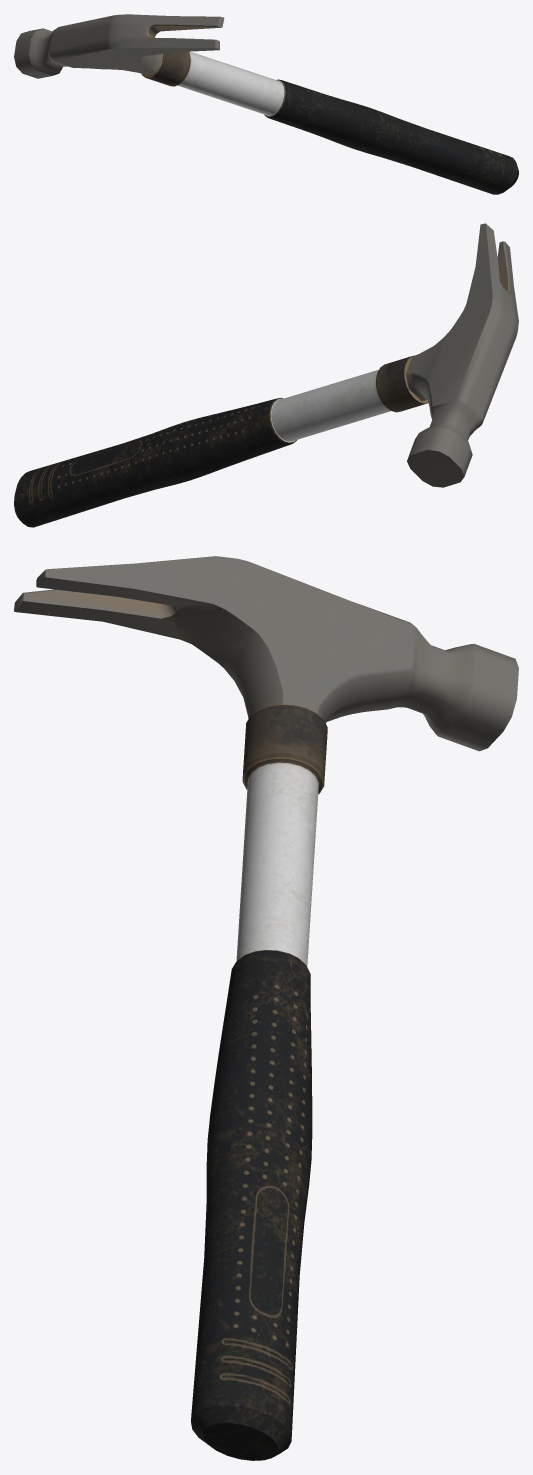
The model's file is gap_hammer.glb.
3 views of the same model, one above another, from view 1: azimuth 30°, elevation 25°; view 2: azimuth 150°, elevation 25°; view 3: azimuth 270°, elevation 25° (orthographic). The views are drawn at different scales.
Parts seen in each view (by area): view 1: pCylinder5; view 2: pCylinder5; view 3: pCylinder5.
Boxes of the visible parts, x1,y1,x2,y2 form: pCylinder5: (14, 14, 518, 194); pCylinder5: (14, 223, 518, 527); pCylinder5: (14, 556, 518, 1460).
Size of the model in its own units: 1.11 by 0.7173 by 0.5675.
Materials: 1 (1 with a texture image).
